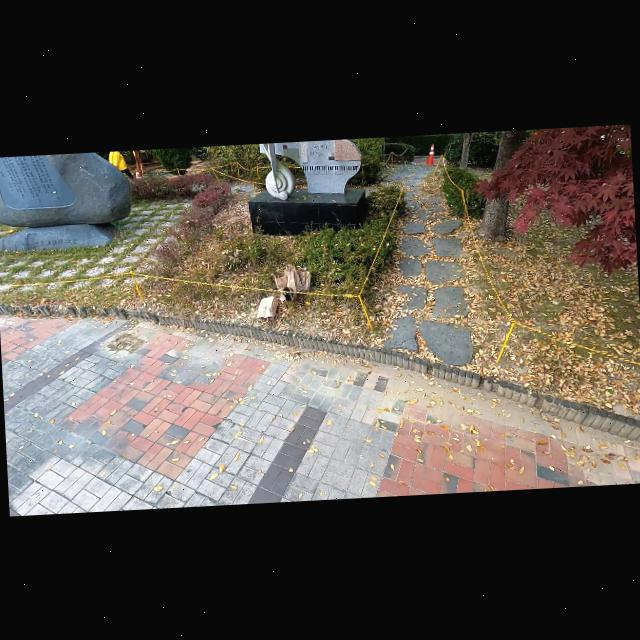trash: (254, 292, 282, 326), (284, 262, 304, 294), (270, 264, 292, 292), (295, 262, 310, 292), (278, 284, 298, 304)
